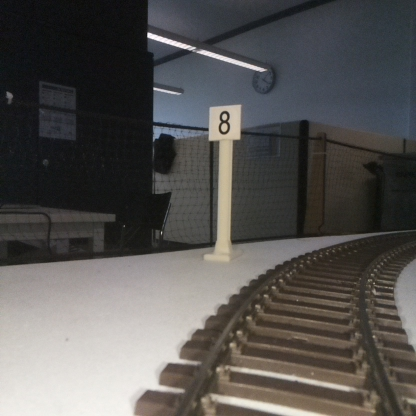white-info-8: (209, 105, 240, 256)
